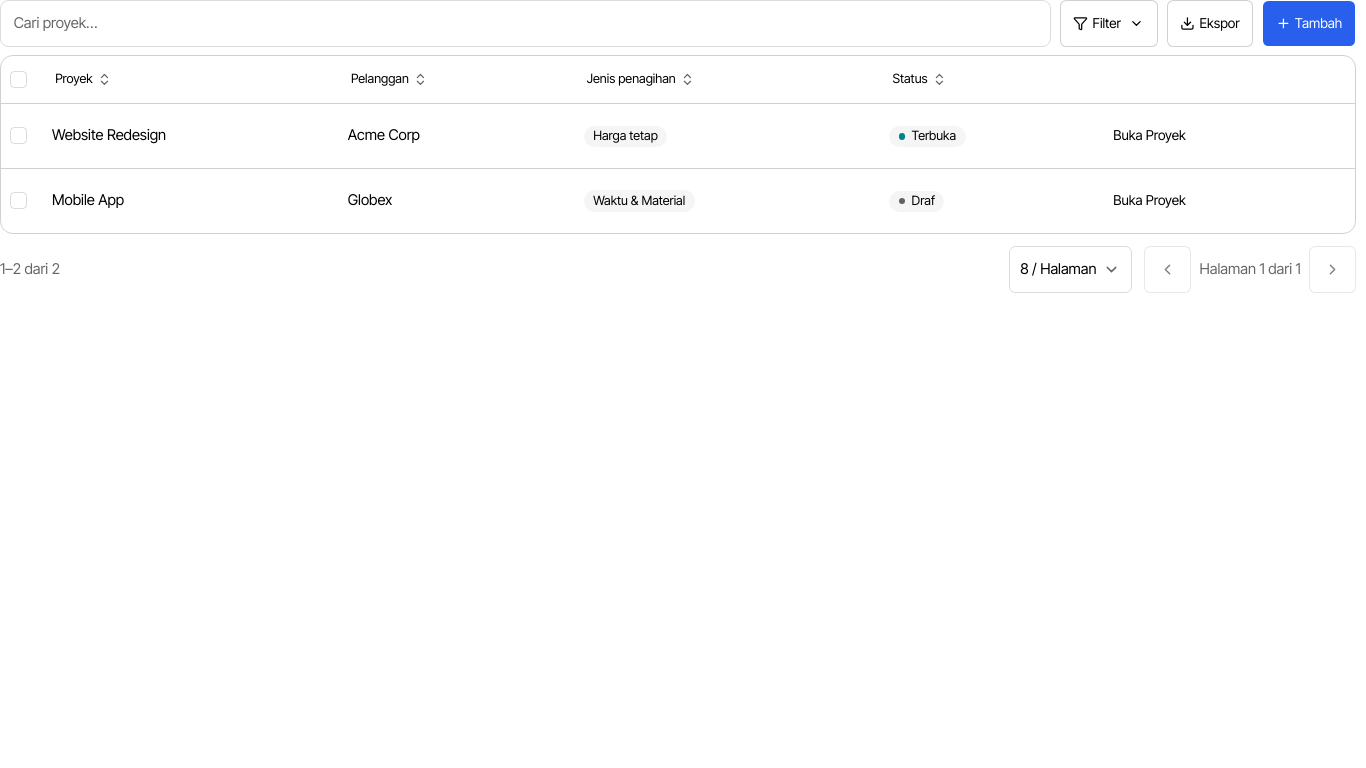
ProjectsSection › opens the create dialog from the add button
Expected: the button "Website Redesign" is shown, [52,125,166,147]
Click the button "Tambah" at (1309, 23), box [1262,0,1356,47]
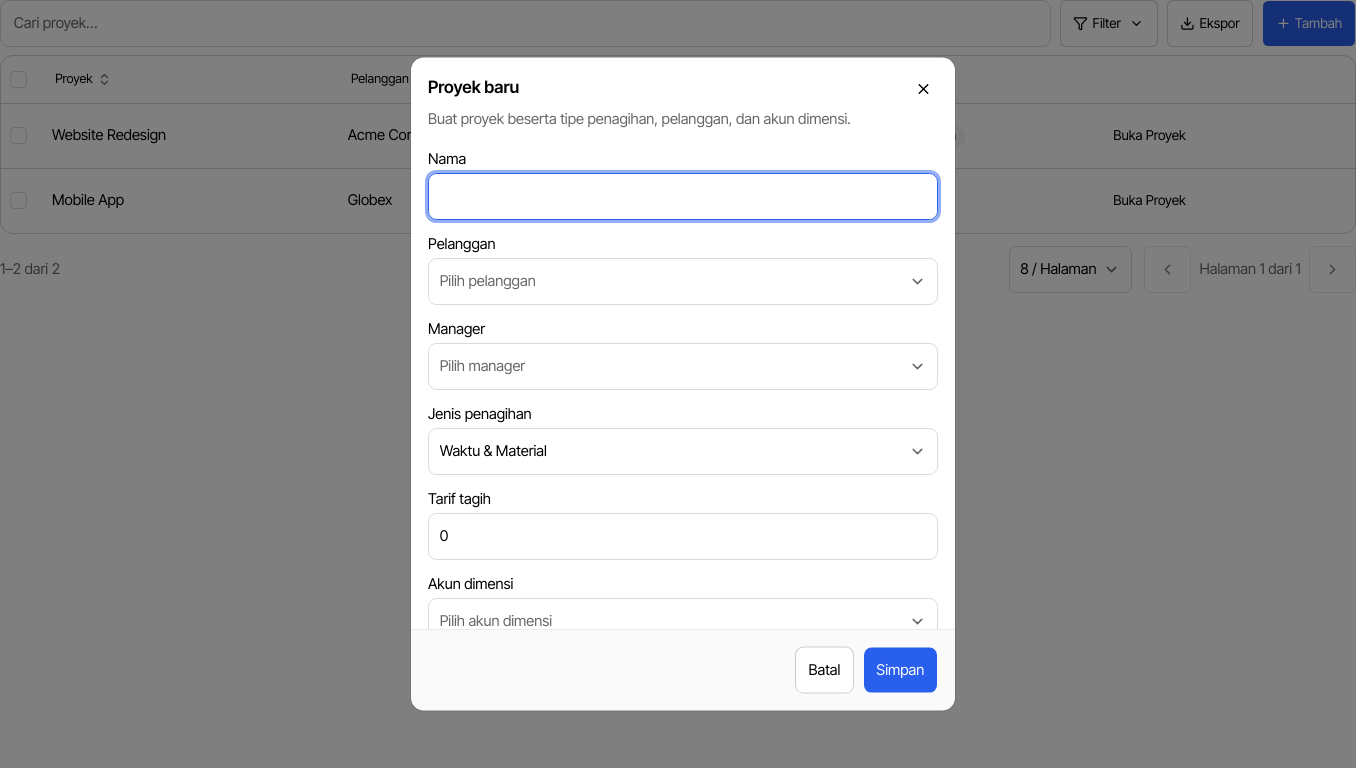
Result: the dialog is shown at [411,58,955,710]
